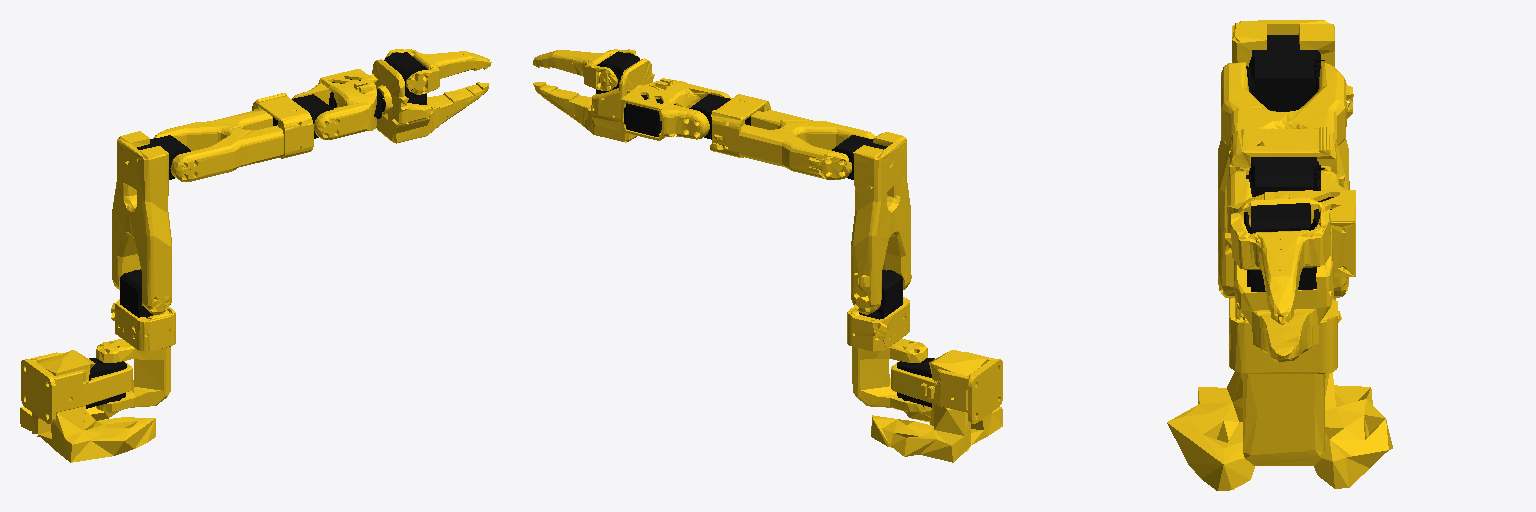
robot.urdf — so101_new_calib:
<?xml version="1.0" encoding="utf-8"?>
<!-- Generated using onshape-to-robot -->
<!-- Onshape https://cad.onshape.com/documents/7715cc284bb430fe6dab4ffd/w/4fd0791b683777b02f8d975a/e/826c553ede3b7592eb9ca800 -->
<robot name="so101_new_calib">

  <!-- Materials -->
  <material name="accent">
    <color rgba="1.0 0.82 0.12 1.0"/>
  </material>
  <material name="sts3215">
    <color rgba="0.1 0.1 0.1 1.0"/>
  </material>

  <!-- Link base -->
  <link name="base_link">
    <inertial>
      <origin xyz="0.0137179 -5.19711e-05 0.0334843" rpy="0 0 0"/>
      <mass value="0.147"/>
      <inertia ixx="0.000114686" ixy="-4.59787e-07" ixz="4.97151e-06" iyy="0.000136117" iyz="9.75275e-08" izz="0.000130364"/>
    </inertial>
    <!-- Part base_motor_holder_so101_v1 -->
    <visual>
      <origin xyz="-0.00636471 -9.94414e-05 -0.0024" rpy="1.5708 -1.67685e-15 1.5708"/>
      <geometry>
        <mesh filename="assets/base_motor_holder_so101_v1.stl"/>
      </geometry>
      <material name="accent"/>
    </visual>
    <collision>
      <origin xyz="-0.00636471 -9.94414e-05 -0.0024" rpy="1.5708 -1.67685e-15 1.5708"/>
      <geometry>
        <mesh filename="assets/base_motor_holder_so101_v1.stl"/>
      </geometry>
    </collision>
    <!-- Part base_so101_v2 -->
    <visual>
      <origin xyz="-0.00636471 -8.97657e-09 -0.0024" rpy="1.5708 -2.78073e-29 1.5708"/>
      <geometry>
        <mesh filename="assets/base_so101_v2.stl"/>
      </geometry>
      <material name="accent"/>
    </visual>
    <collision>
      <origin xyz="-0.00636471 -8.97657e-09 -0.0024" rpy="1.5708 -2.78073e-29 1.5708"/>
      <geometry>
        <mesh filename="assets/base_so101_v2.stl"/>
      </geometry>
    </collision>
    <!-- Part sts3215_03a_v1 -->
    <visual>
      <origin xyz="0.0263353 -8.97657e-09 0.0437" rpy="-8.21148e-16 7.84513e-18 1.249e-15"/>
      <geometry>
        <mesh filename="assets/sts3215_03a_v1.stl"/>
      </geometry>
      <material name="sts3215"/>
    </visual>
    <collision>
      <origin xyz="0.0263353 -8.97657e-09 0.0437" rpy="-8.21148e-16 7.84513e-18 1.249e-15"/>
      <geometry>
        <mesh filename="assets/sts3215_03a_v1.stl"/>
      </geometry>
    </collision>
    <!-- Part waveshare_mounting_plate_so101_v2 -->
    <visual>
      <origin xyz="-0.0309827 -0.000199441 0.0474" rpy="1.5708 -1.35493e-14 1.5708"/>
      <geometry>
        <mesh filename="assets/waveshare_mounting_plate_so101_v2.stl"/>
      </geometry>
      <material name="accent"/>
    </visual>
    <collision>
      <origin xyz="-0.0309827 -0.000199441 0.0474" rpy="1.5708 -1.35493e-14 1.5708"/>
      <geometry>
        <mesh filename="assets/waveshare_mounting_plate_so101_v2.stl"/>
      </geometry>
    </collision>
  </link>

  <!-- Link shoulder -->
  <link name="shoulder_link">
    <inertial>
      <origin xyz="-0.0307604 -1.66727e-05 -0.0252713" rpy="0 0 0"/>
      <mass value="0.100006"/>
      <inertia ixx="8.3759e-05" ixy="7.55525e-08" ixz="-1.16342e-06" iyy="8.10403e-05" iyz="1.54663e-07" izz="2.39783e-05"/>
    </inertial>
    <!-- Part sts3215_03a_v1_2 -->
    <visual>
      <origin xyz="-0.0303992 0.000422241 -0.0417" rpy="1.5708 1.5708 0"/>
      <geometry>
        <mesh filename="assets/sts3215_03a_v1.stl"/>
      </geometry>
      <material name="sts3215"/>
    </visual>
    <collision>
      <origin xyz="-0.0303992 0.000422241 -0.0417" rpy="1.5708 1.5708 0"/>
      <geometry>
        <mesh filename="assets/sts3215_03a_v1.stl"/>
      </geometry>
    </collision>
    <!-- Part motor_holder_so101_base_v1 -->
    <visual>
      <origin xyz="-0.0675992 -0.000177759 0.0158499" rpy="1.5708 -1.5708 0"/>
      <geometry>
        <mesh filename="assets/motor_holder_so101_base_v1.stl"/>
      </geometry>
      <material name="accent"/>
    </visual>
    <collision>
      <origin xyz="-0.0675992 -0.000177759 0.0158499" rpy="1.5708 -1.5708 0"/>
      <geometry>
        <mesh filename="assets/motor_holder_so101_base_v1.stl"/>
      </geometry>
    </collision>
    <!-- Part rotation_pitch_so101_v1 -->
    <visual>
      <origin xyz="0.0122008 2.22413e-05 0.0464" rpy="-1.5708 2.35221e-33 0"/>
      <geometry>
        <mesh filename="assets/rotation_pitch_so101_v1.stl"/>
      </geometry>
      <material name="accent"/>
    </visual>
    <collision>
      <origin xyz="0.0122008 2.22413e-05 0.0464" rpy="-1.5708 2.35221e-33 0"/>
      <geometry>
        <mesh filename="assets/rotation_pitch_so101_v1.stl"/>
      </geometry>
    </collision>
  </link>

  <!-- Link upper_arm -->
  <link name="upper_arm_link">
    <inertial>
      <origin xyz="-0.0898471 -0.00838224 0.0184089" rpy="0 0 0"/>
      <mass value="0.103"/>
      <inertia ixx="4.08002e-05" ixy="-1.97819e-05" ixz="-4.03016e-08" iyy="0.000147318" iyz="8.97326e-09" izz="0.000142487"/>
    </inertial>
    <!-- Part sts3215_03a_v1_3 -->
    <visual>
      <origin xyz="-0.11257 -0.0155 0.0187" rpy="-3.14159 -5.27356e-16 -1.5708"/>
      <geometry>
        <mesh filename="assets/sts3215_03a_v1.stl"/>
      </geometry>
      <material name="sts3215"/>
    </visual>
    <collision>
      <origin xyz="-0.11257 -0.0155 0.0187" rpy="-3.14159 -5.27356e-16 -1.5708"/>
      <geometry>
        <mesh filename="assets/sts3215_03a_v1.stl"/>
      </geometry>
    </collision>
    <!-- Part upper_arm_so101_v1 -->
    <visual>
      <origin xyz="-0.065085 0.012 0.0182" rpy="3.14159 -0 -1.30911e-30"/>
      <geometry>
        <mesh filename="assets/upper_arm_so101_v1.stl"/>
      </geometry>
      <material name="accent"/>
    </visual>
    <collision>
      <origin xyz="-0.065085 0.012 0.0182" rpy="3.14159 -0 -1.30911e-30"/>
      <geometry>
        <mesh filename="assets/upper_arm_so101_v1.stl"/>
      </geometry>
    </collision>
  </link>

  <!-- Link lower_arm -->
  <link name="lower_arm_link">
    <inertial>
      <origin xyz="-0.0980701 0.00324376 0.0182831" rpy="0 0 0"/>
      <mass value="0.104"/>
      <inertia ixx="2.87438e-05" ixy="7.41152e-06" ixz="1.26409e-06" iyy="0.000159844" iyz="-4.90188e-08" izz="0.00014529"/>
    </inertial>
    <!-- Part under_arm_so101_v1 -->
    <visual>
      <origin xyz="-0.0648499 -0.032 0.0182" rpy="3.14159 -0 6.67202e-31"/>
      <geometry>
        <mesh filename="assets/under_arm_so101_v1.stl"/>
      </geometry>
      <material name="accent"/>
    </visual>
    <collision>
      <origin xyz="-0.0648499 -0.032 0.0182" rpy="3.14159 -0 6.67202e-31"/>
      <geometry>
        <mesh filename="assets/under_arm_so101_v1.stl"/>
      </geometry>
    </collision>
    <!-- Part motor_holder_so101_wrist_v1 -->
    <visual>
      <origin xyz="-0.0648499 -0.032 0.018" rpy="-3.14159 -2.55351e-15 -1.83387e-30"/>
      <geometry>
        <mesh filename="assets/motor_holder_so101_wrist_v1.stl"/>
      </geometry>
      <material name="accent"/>
    </visual>
    <collision>
      <origin xyz="-0.0648499 -0.032 0.018" rpy="-3.14159 -2.55351e-15 -1.83387e-30"/>
      <geometry>
        <mesh filename="assets/motor_holder_so101_wrist_v1.stl"/>
      </geometry>
    </collision>
    <!-- Part sts3215_03a_v1_4 -->
    <visual>
      <origin xyz="-0.1224 0.0052 0.0187" rpy="-3.14159 -7.88861e-31 -3.14159"/>
      <geometry>
        <mesh filename="assets/sts3215_03a_v1.stl"/>
      </geometry>
      <material name="sts3215"/>
    </visual>
    <collision>
      <origin xyz="-0.1224 0.0052 0.0187" rpy="-3.14159 -7.88861e-31 -3.14159"/>
      <geometry>
        <mesh filename="assets/sts3215_03a_v1.stl"/>
      </geometry>
    </collision>
  </link>

  <!-- Link wrist -->
  <link name="wrist_link">
    <inertial>
      <origin xyz="-0.000103312 -0.0386143 0.0281156" rpy="0 0 0"/>
      <mass value="0.079"/>
      <inertia ixx="3.68263e-05" ixy="1.7893e-08" ixz="-5.28128e-08" iyy="2.5391e-05" iyz="3.6412e-06" izz="2.1e-05"/>
    </inertial>
    <!-- Part sts3215_03a_no_horn_v1 -->
    <visual>
      <origin xyz="8.32667e-17 -0.0424 0.0306" rpy="1.5708 1.5708 0"/>
      <geometry>
        <mesh filename="assets/sts3215_03a_no_horn_v1.stl"/>
      </geometry>
      <material name="sts3215"/>
    </visual>
    <collision>
      <origin xyz="8.32667e-17 -0.0424 0.0306" rpy="1.5708 1.5708 0"/>
      <geometry>
        <mesh filename="assets/sts3215_03a_no_horn_v1.stl"/>
      </geometry>
    </collision>
    <!-- Part wrist_roll_pitch_so101_v2 -->
    <visual>
      <origin xyz="0 -0.028 0.0181" rpy="-1.5708 -1.5708 0"/>
      <geometry>
        <mesh filename="assets/wrist_roll_pitch_so101_v2.stl"/>
      </geometry>
      <material name="accent"/>
    </visual>
    <collision>
      <origin xyz="0 -0.028 0.0181" rpy="-1.5708 -1.5708 0"/>
      <geometry>
        <mesh filename="assets/wrist_roll_pitch_so101_v2.stl"/>
      </geometry>
    </collision>
  </link>

  <!-- Link gripper -->
  <link name="gripper_link">
    <inertial>
      <origin xyz="0.000213627 0.000245138 -0.025187" rpy="0 0 0"/>
      <mass value="0.087"/>
      <inertia ixx="2.75087e-05" ixy="-3.35241e-07" ixz="-5.7352e-06" iyy="4.33657e-05" iyz="-5.17847e-08" izz="3.45059e-05"/>
    </inertial>
    <!-- Part sts3215_03a_v1_5 -->
    <visual>
      <origin xyz="0.0077 0.0001 -0.0234" rpy="-1.5708 -5.19179e-17 -1.66533e-16"/>
      <geometry>
        <mesh filename="assets/sts3215_03a_v1.stl"/>
      </geometry>
      <material name="sts3215"/>
    </visual>
    <collision>
      <origin xyz="0.0077 0.0001 -0.0234" rpy="-1.5708 -5.19179e-17 -1.66533e-16"/>
      <geometry>
        <mesh filename="assets/sts3215_03a_v1.stl"/>
      </geometry>
    </collision>
    <!-- Part wrist_roll_follower_so101_v1 -->
    <visual>
      <origin xyz="8.32667e-17 -0.000218214 0.000949706" rpy="-3.14159 -5.55112e-17 0"/>
      <geometry>
        <mesh filename="assets/wrist_roll_follower_so101_v1.stl"/>
      </geometry>
      <material name="accent"/>
    </visual>
    <collision>
      <origin xyz="8.32667e-17 -0.000218214 0.000949706" rpy="-3.14159 -5.55112e-17 0"/>
      <geometry>
        <mesh filename="assets/wrist_roll_follower_so101_v1.stl"/>
      </geometry>
    </collision>
  </link>

  <!-- Gripper frame (dummy link + fixed joint) -->
  <link name="gripper_frame_link">
    <origin xyz="0 0 0" rpy="0 -0 0"/>
    <inertial>
      <origin xyz="0 0 0" rpy="0 0 0"/>
      <mass value="1e-9"/>
      <inertia ixx="0" ixy="0" ixz="0" iyy="0" iyz="0" izz="0"/>
    </inertial>
  </link>

  <joint name="gripper_frame_joint" type="fixed">
    <origin xyz="-0.0079 -0.000218121 -0.0981274" rpy="0 3.14159 0"/>
    <parent link="gripper_link"/>
    <child link="gripper_frame_link"/>
    <axis xyz="0 0 0"/>
  </joint>

  <!-- Link moving_jaw_so101_v1 -->
  <link name="moving_jaw_so101_v1_link">
    <inertial>
      <origin xyz="-0.00157495 -0.0300244 0.0192755" rpy="0 0 0"/>
      <mass value="0.012"/>
      <inertia ixx="6.61427e-06" ixy="-3.19807e-07" ixz="-5.90717e-09" iyy="1.89032e-06" iyz="-1.09945e-07" izz="5.28738e-06"/>
    </inertial>
    <!-- Part moving_jaw_so101_v1 -->
    <visual>
      <origin xyz="-5.55112e-17 -5.55112e-17 0.0189" rpy="9.53145e-17 6.93889e-18 1.24077e-24"/>
      <geometry>
        <mesh filename="assets/moving_jaw_so101_v1.stl"/>
      </geometry>
      <material name="accent"/>
    </visual>
    <collision>
      <origin xyz="-5.55112e-17 -5.55112e-17 0.0189" rpy="9.53145e-17 6.93889e-18 1.24077e-24"/>
      <geometry>
        <mesh filename="assets/moving_jaw_so101_v1.stl"/>
      </geometry>
    </collision>
  </link>

  <!-- Joint from gripper to moving_jaw_so101_v1 -->
  <joint name="gripper" type="revolute">
    <origin xyz="0.0202 0.0188 -0.0234" rpy="1.5708 -5.24284e-08 -1.41553e-15"/>
    <parent link="gripper_link"/>
    <child link="moving_jaw_so101_v1_link"/>
    <axis xyz="0 0 1"/>
    <limit effort="10" velocity="10" lower="-0.174533" upper="1.74533"/>
  </joint>

  <transmission name="gripper_trans">
    <type>transmission_interface/SimpleTransmission</type>
    <joint name="gripper">
      <hardwareInterface>hardware_interface/PositionJointInterface</hardwareInterface>
    </joint>
    <actuator name="motor6">
      <hardwareInterface>hardware_interface/PositionJointInterface</hardwareInterface>
      <mechanicalReduction>1</mechanicalReduction>
    </actuator>
  </transmission>

  <!-- Joint from wrist to gripper -->
  <joint name="wrist_roll" type="revolute">
    <origin xyz="5.55112e-17 -0.0611 0.0181" rpy="1.5708 0.0486795 3.14159"/>
    <parent link="wrist_link"/>
    <child link="gripper_link"/>
    <axis xyz="0 0 1"/>
    <limit effort="10" velocity="10" lower="-2.74385" upper="2.84121"/>
  </joint>

  <transmission name="wrist_roll_trans">
    <type>transmission_interface/SimpleTransmission</type>
    <joint name="wrist_roll">
      <hardwareInterface>hardware_interface/PositionJointInterface</hardwareInterface>
    </joint>
    <actuator name="motor5">
      <hardwareInterface>hardware_interface/PositionJointInterface</hardwareInterface>
      <mechanicalReduction>1</mechanicalReduction>
    </actuator>
  </transmission>

  <!-- Joint from lower_arm to wrist -->
  <joint name="wrist_flex" type="revolute">
    <origin xyz="-0.1349 0.0052 3.62355e-17" rpy="4.02456e-15 8.67362e-16 -1.5708"/>
    <parent link="lower_arm_link"/>
    <child link="wrist_link"/>
    <axis xyz="0 0 1"/>
    <limit effort="10" velocity="10" lower="-1.65806" upper="1.65806"/>
  </joint>

  <transmission name="wrist_flex_trans">
    <type>transmission_interface/SimpleTransmission</type>
    <joint name="wrist_flex">
      <hardwareInterface>hardware_interface/PositionJointInterface</hardwareInterface>
    </joint>
    <actuator name="motor4">
      <hardwareInterface>hardware_interface/PositionJointInterface</hardwareInterface>
      <mechanicalReduction>1</mechanicalReduction>
    </actuator>
  </transmission>

  <!-- Joint from upper_arm to lower_arm -->
  <!-- Note: 5-degree calibration offset applied to joint limits -->
  <joint name="elbow_flex" type="revolute">
    <origin xyz="-0.11257 -0.028 1.73763e-16" rpy="-3.63608e-16 8.74301e-16 1.5708"/>
    <parent link="upper_arm_link"/>
    <child link="lower_arm_link"/>
    <axis xyz="0 0 1"/>
    <limit effort="10" velocity="10" lower="-1.69" upper="1.69"/>
  </joint>

  <transmission name="elbow_flex_trans">
    <type>transmission_interface/SimpleTransmission</type>
    <joint name="elbow_flex">
      <hardwareInterface>hardware_interface/PositionJointInterface</hardwareInterface>
    </joint>
    <actuator name="motor3">
      <hardwareInterface>hardware_interface/PositionJointInterface</hardwareInterface>
      <mechanicalReduction>1</mechanicalReduction>
    </actuator>
  </transmission>

  <!-- Joint from shoulder to upper_arm -->
  <joint name="shoulder_lift" type="revolute">
    <origin xyz="-0.0303992 -0.0182778 -0.0542" rpy="-1.5708 -1.5708 0"/>
    <parent link="shoulder_link"/>
    <child link="upper_arm_link"/>
    <axis xyz="0 0 1"/>
    <limit effort="10" velocity="10" lower="-1.74533" upper="1.74533"/>
  </joint>

  <transmission name="shoulder_lift_trans">
    <type>transmission_interface/SimpleTransmission</type>
    <joint name="shoulder_lift">
      <hardwareInterface>hardware_interface/PositionJointInterface</hardwareInterface>
    </joint>
    <actuator name="motor2">
      <hardwareInterface>hardware_interface/PositionJointInterface</hardwareInterface>
      <mechanicalReduction>1</mechanicalReduction>
    </actuator>
  </transmission>

  <!-- Joint from base to shoulder -->
  <joint name="shoulder_pan" type="revolute">
    <origin xyz="0.0388353 -8.97657e-09 0.0624" rpy="3.14159 4.18253e-17 -3.14159"/>
    <parent link="base_link"/>
    <child link="shoulder_link"/>
    <axis xyz="0 0 1"/>
    <limit effort="10" velocity="10" lower="-1.91986" upper="1.91986"/>
  </joint>

  <transmission name="shoulder_pan_trans">
    <type>transmission_interface/SimpleTransmission</type>
    <joint name="shoulder_pan">
      <hardwareInterface>hardware_interface/PositionJointInterface</hardwareInterface>
    </joint>
    <actuator name="motor1">
      <hardwareInterface>hardware_interface/PositionJointInterface</hardwareInterface>
      <mechanicalReduction>1</mechanicalReduction>
    </actuator>
  </transmission> 

</robot>

--- Facts derived from the render (not from the file) ---
Views: 3 orthographic renders of the robot side by side, from view 1: azimuth 30°, elevation 25°; view 2: azimuth 150°, elevation 25°; view 3: azimuth 270°, elevation 25°.
Model so101_new_calib with 8 links and 7 joints (6 revolute, 1 fixed), rooted at base_link, posed every joint at zero.
Visible links, largest first — view 1: base_link, upper_arm_link, lower_arm_link, shoulder_link, gripper_link, wrist_link, moving_jaw_so101_v1_link; view 2: base_link, upper_arm_link, lower_arm_link, shoulder_link, wrist_link, gripper_link, moving_jaw_so101_v1_link; view 3: lower_arm_link, base_link, shoulder_link, upper_arm_link, gripper_link, moving_jaw_so101_v1_link, wrist_link.
Boxes of the visible links, x1,y1,x2,y2 form: base_link: (20, 350, 155, 462); upper_arm_link: (112, 131, 190, 314); lower_arm_link: (153, 93, 332, 181); shoulder_link: (96, 269, 175, 412); gripper_link: (372, 52, 489, 143); wrist_link: (292, 69, 385, 139); moving_jaw_so101_v1_link: (384, 49, 491, 94); base_link: (871, 350, 1002, 462); upper_arm_link: (832, 132, 911, 314); lower_arm_link: (689, 94, 875, 179); shoulder_link: (847, 270, 927, 412); wrist_link: (621, 78, 731, 140); gripper_link: (533, 51, 654, 142); moving_jaw_so101_v1_link: (533, 49, 639, 90); lower_arm_link: (1221, 62, 1353, 196); base_link: (1167, 298, 1392, 490); shoulder_link: (1229, 298, 1341, 465); upper_arm_link: (1218, 20, 1349, 297); gripper_link: (1225, 198, 1333, 362); moving_jaw_so101_v1_link: (1231, 209, 1330, 324); wrist_link: (1227, 171, 1355, 276).
Bounding box of the posed robot: 0.4287 × 0.1095 × 0.2683 m (x, y, z).
17 mesh visuals loaded from 13 distinct referenced files (13 binary STL).
